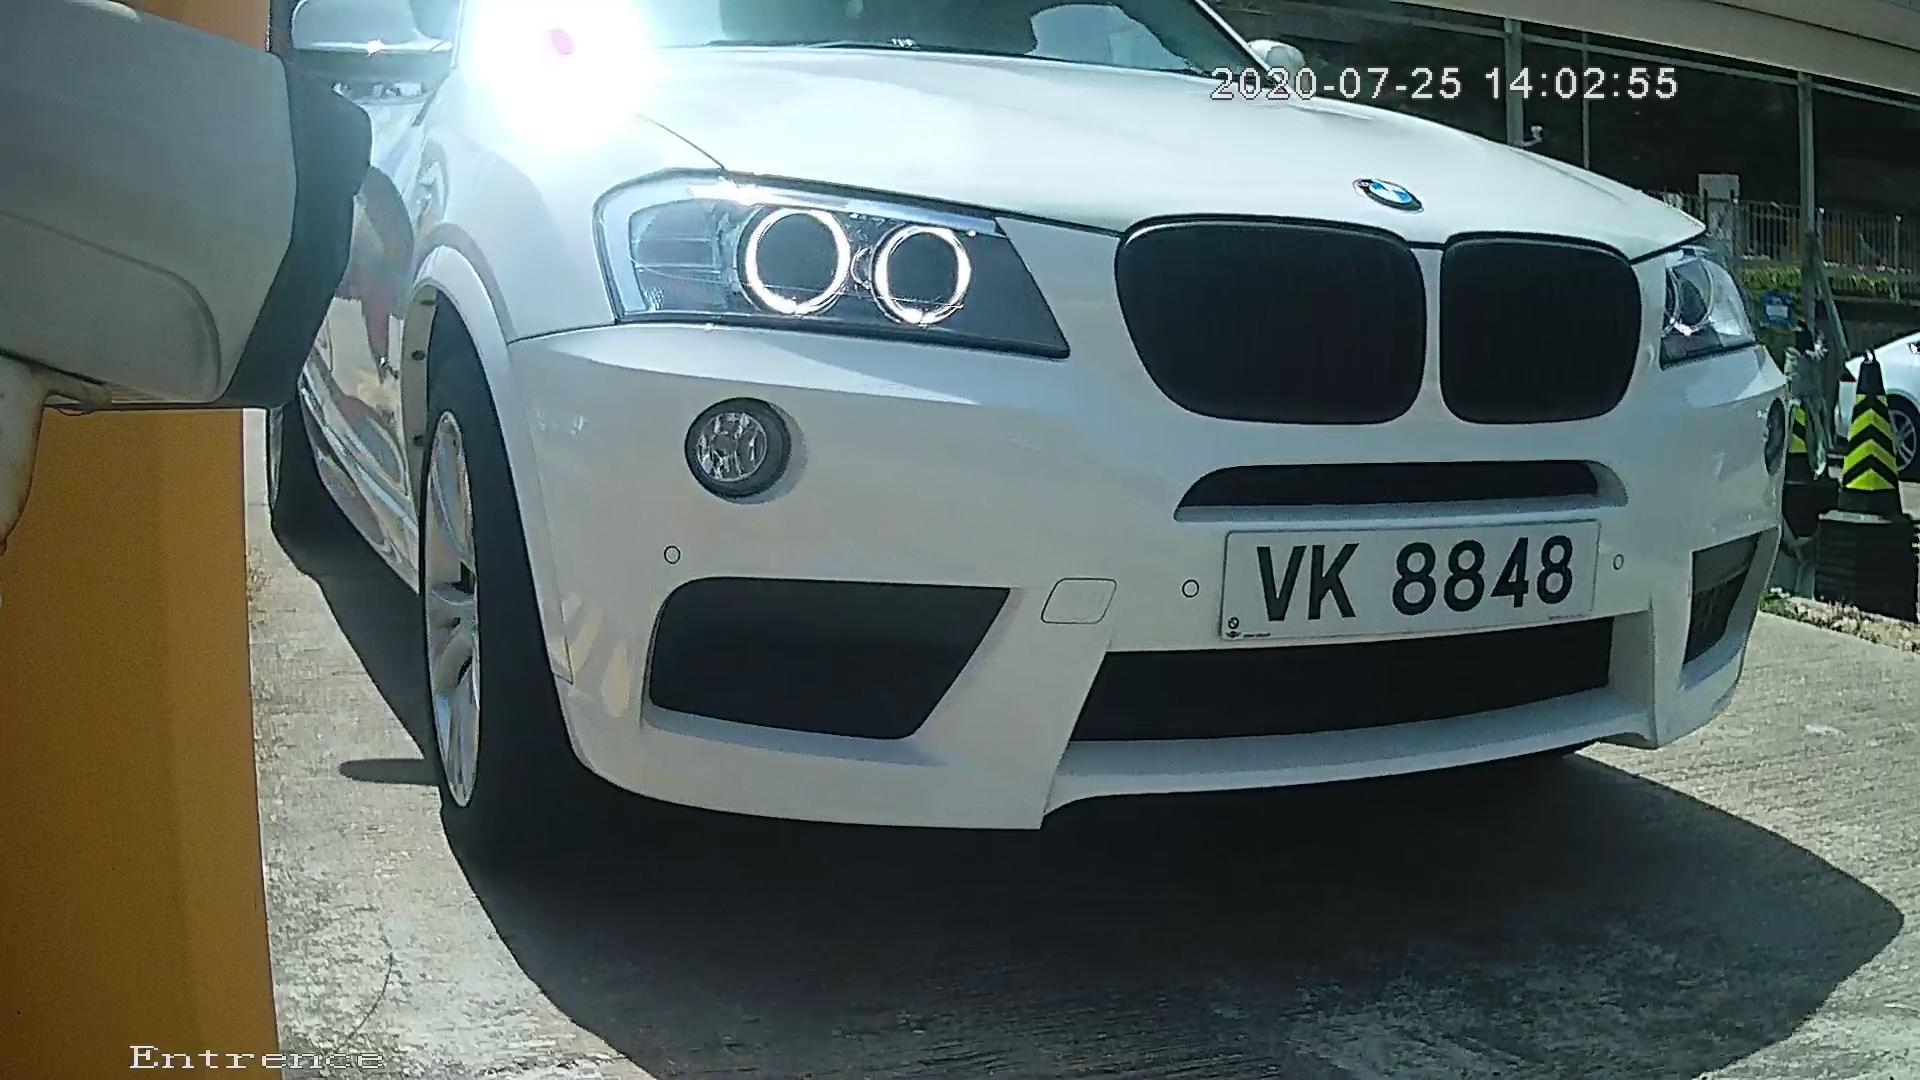License Plate: (1192, 497, 1629, 656)
